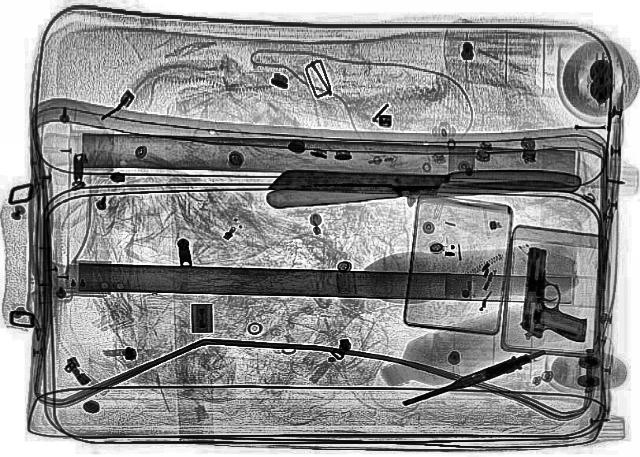Gun: (398, 346, 548, 410), (518, 246, 592, 341)
Knife: (262, 174, 572, 208), (269, 166, 581, 192)
